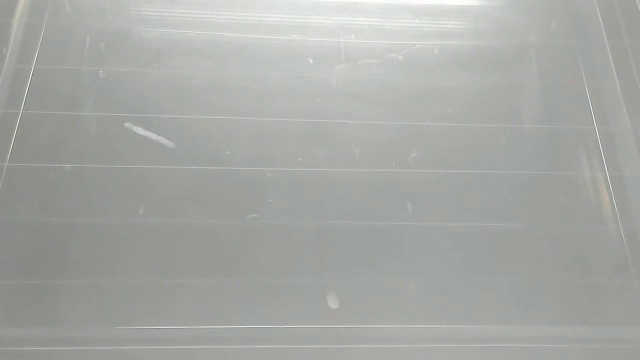alpha: (120, 118, 179, 153), (323, 286, 343, 311)
